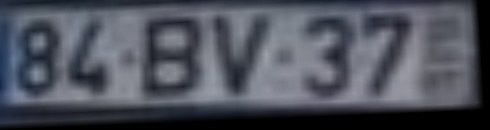3: (298, 10, 361, 104)
4: (64, 20, 118, 102)
7: (358, 13, 422, 106)
8: (13, 18, 67, 104)
B: (135, 13, 210, 103)
V: (208, 14, 286, 105)
